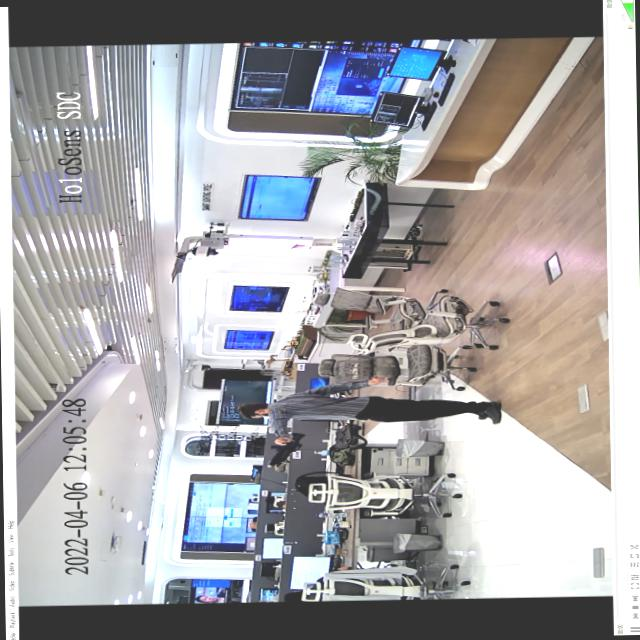long weapon: (262, 428, 312, 469)
